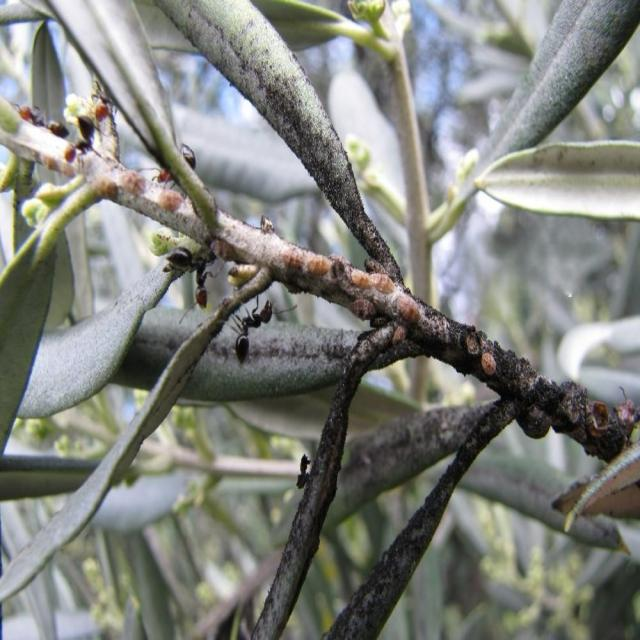Black Scale: (35, 144, 624, 458)
